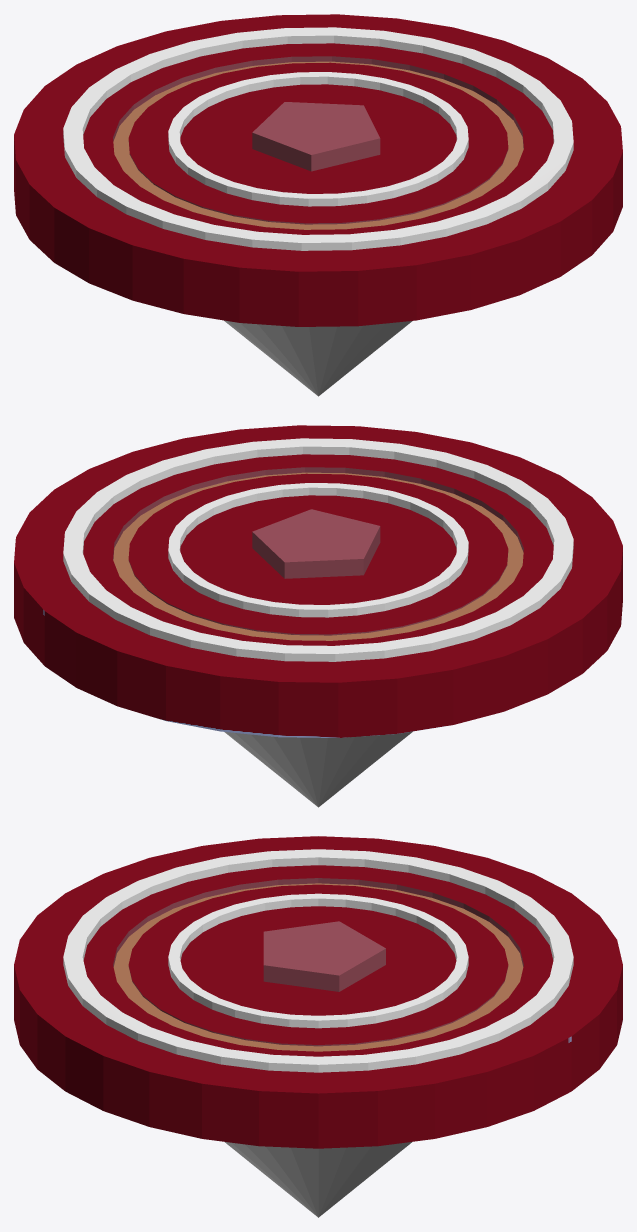
The model's file is enemy.obj.
The picture shows the model from 3 angles, top to bottom: view 1: azimuth 30°, elevation 25°; view 2: azimuth 150°, elevation 25°; view 3: azimuth 270°, elevation 25°; orthographic projection.
Parts seen in each view (by area): view 1: 円柱; view 2: 円柱; view 3: 円柱.
Boxes of the visible parts, left/top/right/bottom form: 円柱: left=14, top=14, right=622, bottom=396; 円柱: left=14, top=425, right=622, bottom=807; 円柱: left=14, top=836, right=622, bottom=1217.
Size of the model in its own units: 2.73 by 1.33 by 2.73.
Materials: 1 (1 with a texture image).
